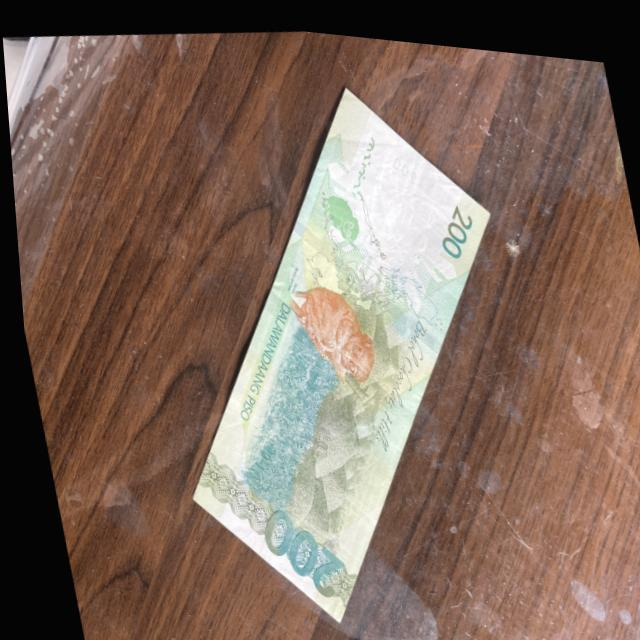200_tarsier: (253, 255, 392, 403)
200_tarsier_watermark: (304, 174, 371, 264)
value_watermark: (382, 128, 421, 192)
watermark: (353, 132, 456, 279)
